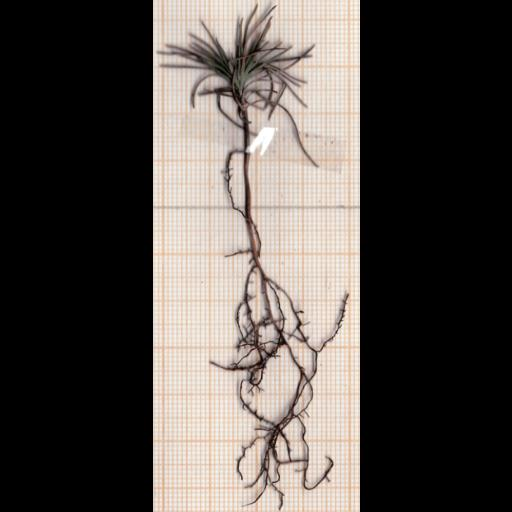flowerCedr: (159, 6, 316, 166)
rootCedr: (221, 253, 348, 510)
stemCedr: (243, 143, 259, 260)
